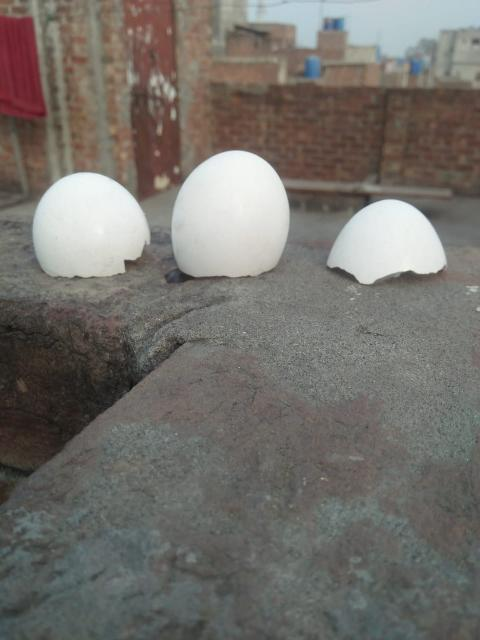Roto: (170, 148, 290, 278), (31, 170, 151, 278), (326, 198, 447, 285)
